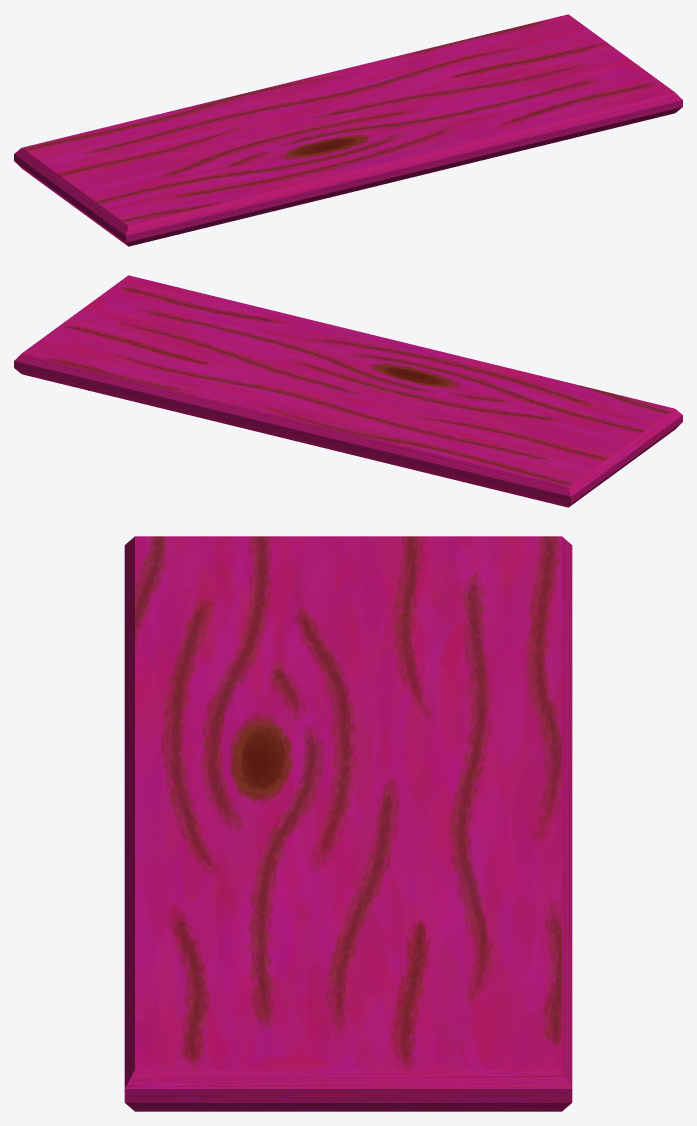
The model's file is Tablas3.fbx.
3 views of the same model, one above another, from view 1: azimuth 30°, elevation 25°; view 2: azimuth 150°, elevation 25°; view 3: azimuth 270°, elevation 25° (orthographic). The views are drawn at different scales.
Parts seen in each view (by area): view 1: Cube; view 2: Cube; view 3: Cube.
Boxes of the visible parts, left/top/right/bottom form: Cube: left=14, top=14, right=682, bottom=246; Cube: left=14, top=275, right=682, bottom=507; Cube: left=124, top=536, right=572, bottom=1111.
Bounding box in the file's own units: 824 × 29.48 × 286.
Materials: 1 (1 with a texture image).
